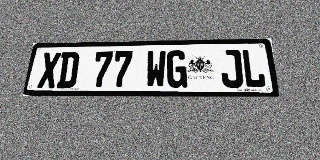7: (91, 51, 113, 88), (111, 51, 133, 88)
D: (56, 52, 80, 88)
G: (166, 50, 187, 88)
J: (220, 49, 244, 88)
L: (241, 49, 267, 88)
W: (145, 50, 166, 88)
X: (37, 52, 61, 88)
